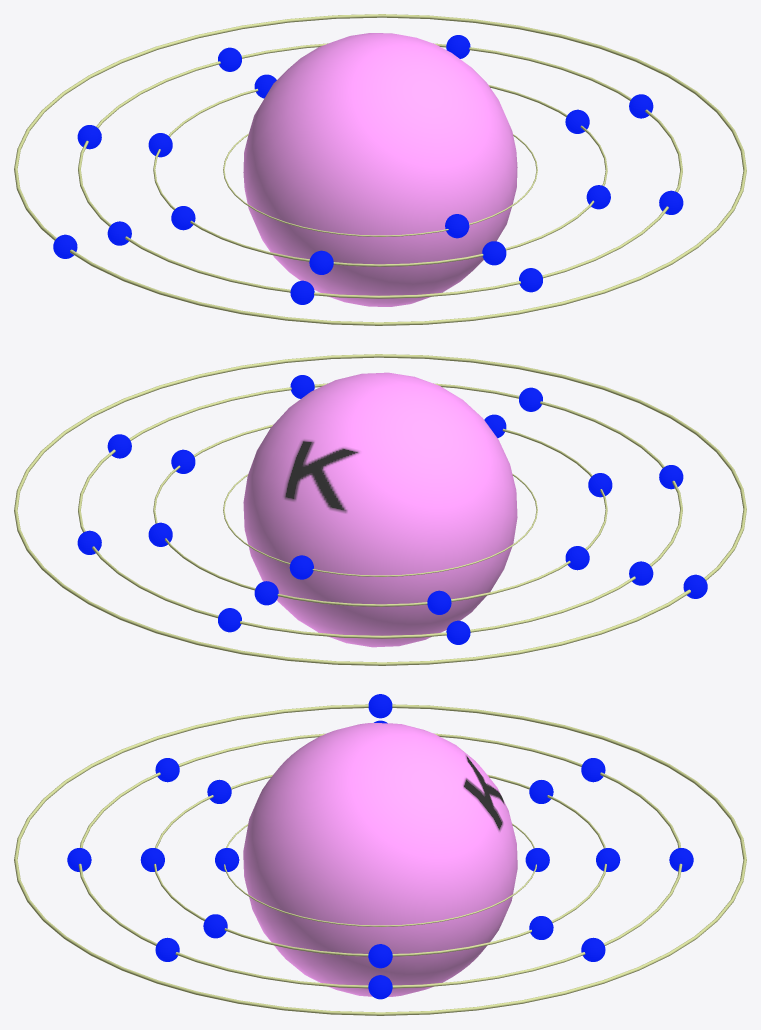
The picture shows the model from 3 angles, top to bottom: view 1: azimuth 30°, elevation 25°; view 2: azimuth 150°, elevation 25°; view 3: azimuth 270°, elevation 25°; orthographic projection.
Visible parts, largest first — view 1: 球体, 贝塞尔圆环.003, 贝塞尔圆环.002, 贝塞尔圆环.001, 贝塞尔圆环; view 2: 球体, 贝塞尔圆环.003, 贝塞尔圆环.002, 贝塞尔圆环.001, 贝塞尔圆环; view 3: 球体, 贝塞尔圆环.003, 贝塞尔圆环.002, 贝塞尔圆环.001, 贝塞尔圆环.
Boxes of the visible parts, left/top/right/bottom form: 球体: left=243, top=33, right=517, bottom=306; 贝塞尔圆环.003: left=14, top=14, right=746, bottom=325; 贝塞尔圆环.002: left=78, top=43, right=682, bottom=298; 贝塞尔圆环.001: left=153, top=85, right=607, bottom=266; 贝塞尔圆环: left=223, top=133, right=537, bottom=236; 球体: left=243, top=372, right=517, bottom=647; 贝塞尔圆环.003: left=14, top=354, right=746, bottom=665; 贝塞尔圆环.002: left=78, top=383, right=682, bottom=638; 贝塞尔圆环.001: left=153, top=424, right=607, bottom=606; 贝塞尔圆环: left=223, top=474, right=537, bottom=576; 球体: left=243, top=723, right=517, bottom=996; 贝塞尔圆环.003: left=14, top=704, right=746, bottom=1015; 贝塞尔圆环.002: left=78, top=733, right=682, bottom=988; 贝塞尔圆环.001: left=154, top=774, right=606, bottom=956; 贝塞尔圆环: left=224, top=823, right=536, bottom=926.
Bounding box in the file's own units: 2.87 × 1.06 × 2.84.
Materials: 12 (1 with a texture image).
